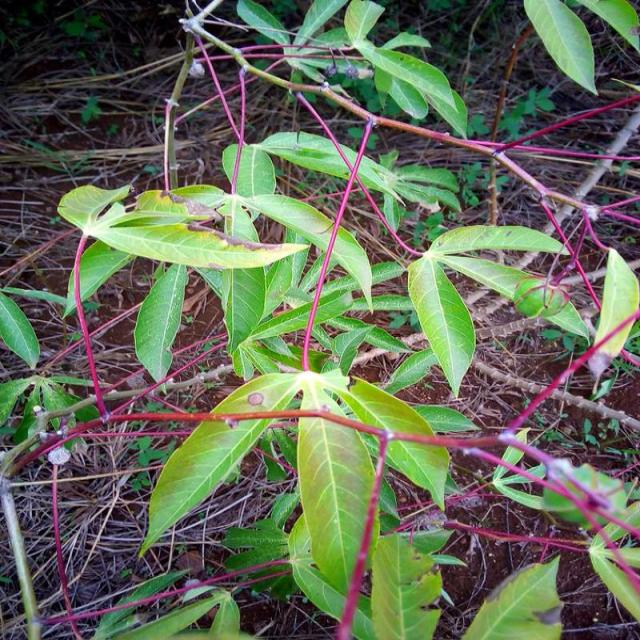cassava leaf: (138, 370, 302, 559), (297, 385, 382, 598), (407, 251, 477, 398)
